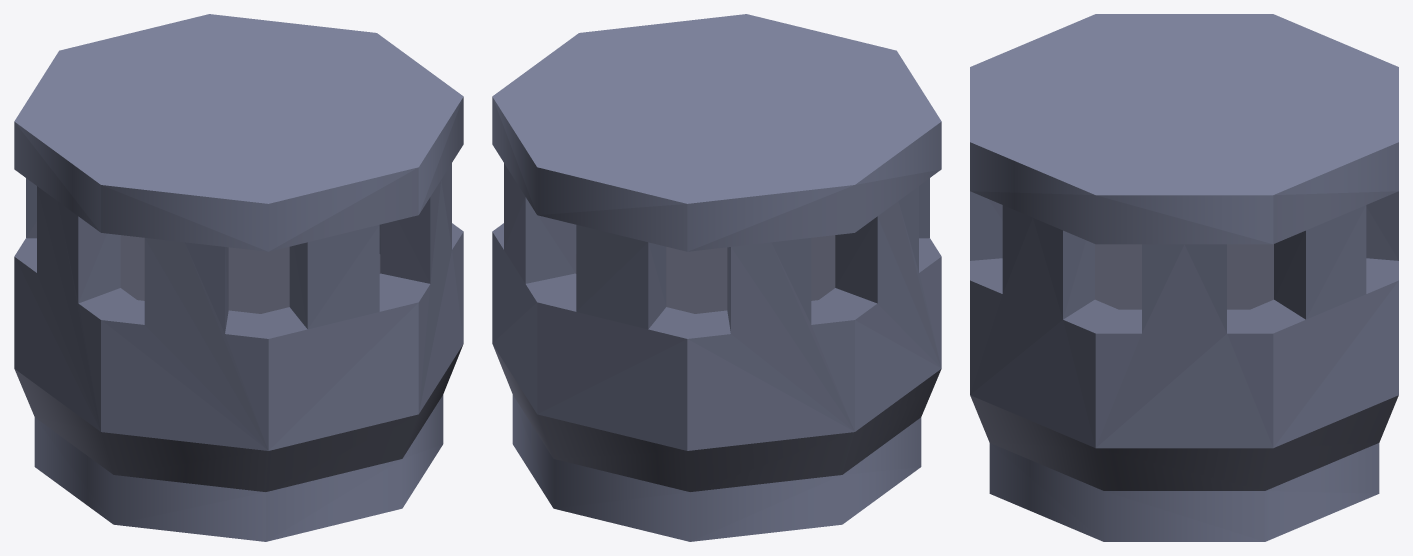
The model's file is pirate_tower_watch.glb.
3 views of the same model, side by side, from view 1: azimuth 30°, elevation 25°; view 2: azimuth 150°, elevation 25°; view 3: azimuth 270°, elevation 25° (orthographic). The views are drawn at different scales.
Visible parts, largest first — view 1: pirate_tower_watch; view 2: pirate_tower_watch; view 3: pirate_tower_watch.
Boxes of the visible parts, x1,y1,x2,y2 form: pirate_tower_watch: [14, 14, 463, 541]; pirate_tower_watch: [492, 14, 941, 541]; pirate_tower_watch: [970, 14, 1398, 541].
Bounding box in the file's own units: 3.05 × 2.79 × 3.05.
